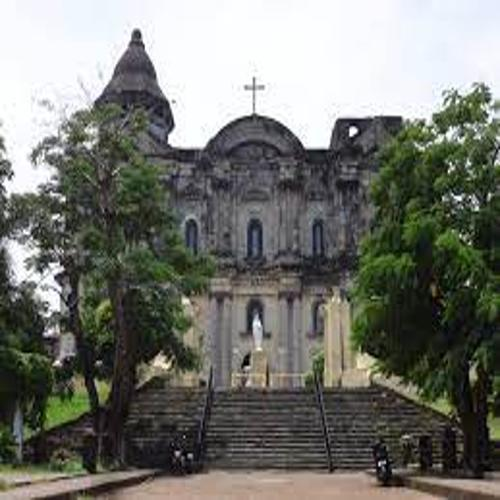Taal Basilica Church: (72, 21, 424, 388)
